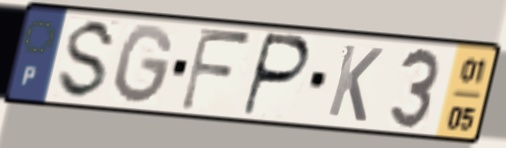3: (386, 45, 443, 132)
F: (177, 24, 255, 115)
G: (111, 21, 177, 108)
K: (323, 41, 386, 125)
P: (238, 30, 313, 120)
S: (54, 17, 121, 103)
